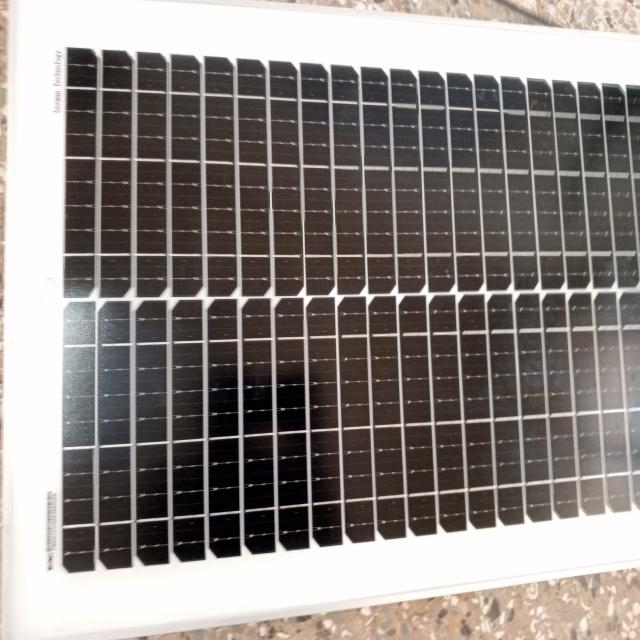Clean: (44, 43, 640, 526)
